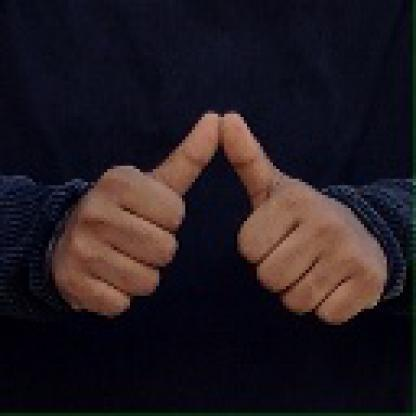A: (49, 102, 390, 340)
